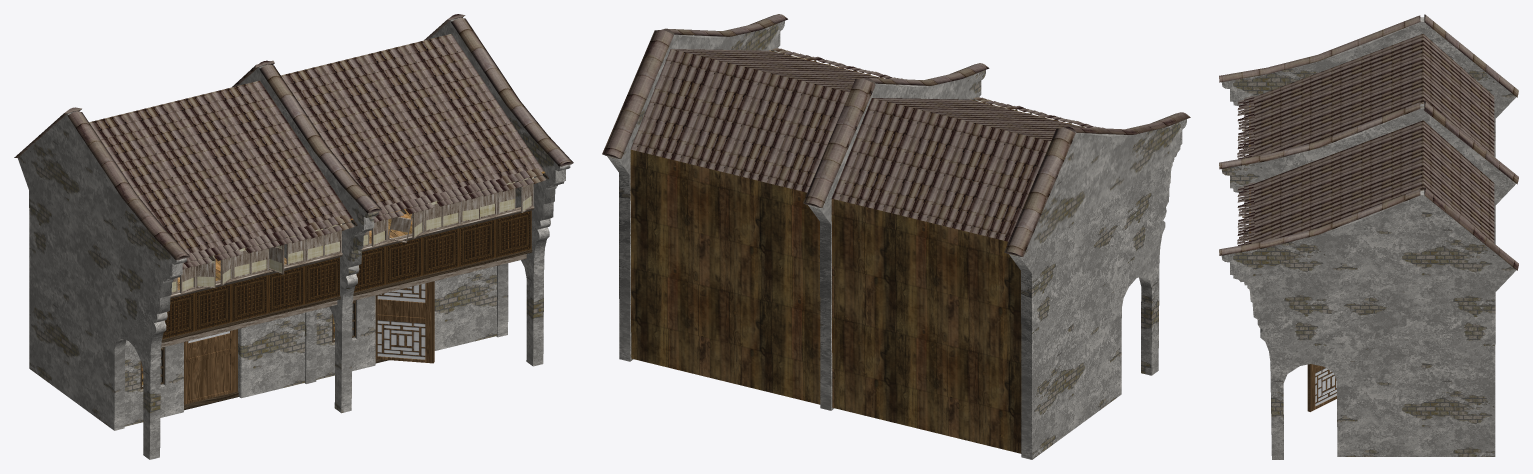
File: house4_LOD1.FBX
3 renders of one model, left to right at view 1: azimuth 30°, elevation 25°; view 2: azimuth 150°, elevation 25°; view 3: azimuth 270°, elevation 25°, orthographic. The views are drawn at different scales.
Parts seen in each view (by area): view 1: walls_LOD1, roof_LOD1, frontpanels_LOD1, rooftiles_LOD1, windowframes_LOD1, door2_LOD1, door_LOD1, paperwindows_LOD1, window_LOD1, beam1_LOD1; view 2: backwall_LOD1, roof_LOD1, walls_LOD1, rooftiles_LOD1; view 3: walls_LOD1, roof_LOD1, rooftiles_LOD1, door2_LOD1.
Boxes of the visible parts, <box> form: walls_LOD1: <box>17,18,570,459</box>; roof_LOD1: <box>89,34,543,253</box>; frontpanels_LOD1: <box>162,210,531,338</box>; rooftiles_LOD1: <box>14,14,573,269</box>; windowframes_LOD1: <box>170,180,534,298</box>; door2_LOD1: <box>375,281,434,363</box>; door_LOD1: <box>184,329,237,404</box>; paperwindows_LOD1: <box>171,178,531,292</box>; window_LOD1: <box>140,249,532,410</box>; beam1_LOD1: <box>161,254,526,347</box>; backwall_LOD1: <box>630,50,1084,453</box>; roof_LOD1: <box>630,49,1099,241</box>; walls_LOD1: <box>607,21,1186,459</box>; rooftiles_LOD1: <box>602,14,1190,256</box>; walls_LOD1: <box>1221,17,1516,459</box>; roof_LOD1: <box>1250,34,1494,243</box>; rooftiles_LOD1: <box>1219,14,1518,270</box>; door2_LOD1: <box>1307,364,1336,411</box>.
Bounding box in the file's own units: 1103 × 762 × 770.
